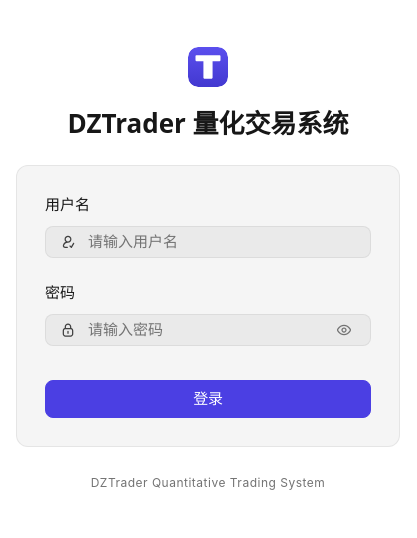
LoginView › 账户锁定（account_locked, 423）按绝对 locked_until 显示剩余分钟警告
This screenshot has width=417, height=538.
Type "bob" into the field with id "username" at coordinates (221, 242), box x1=86 y1=230 x2=356 y2=254
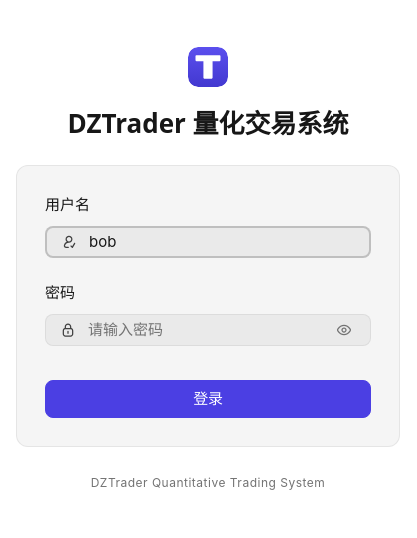
Type "pw" into the password field labelled "密码" at coordinates (204, 330), box x1=86 y1=318 x2=322 y2=342
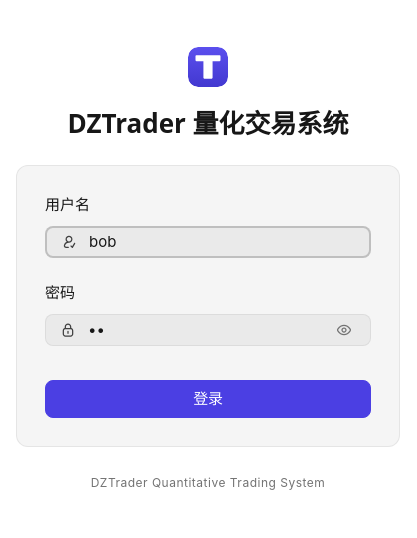
Submit the form, box x1=45 y1=194 x2=371 y2=418
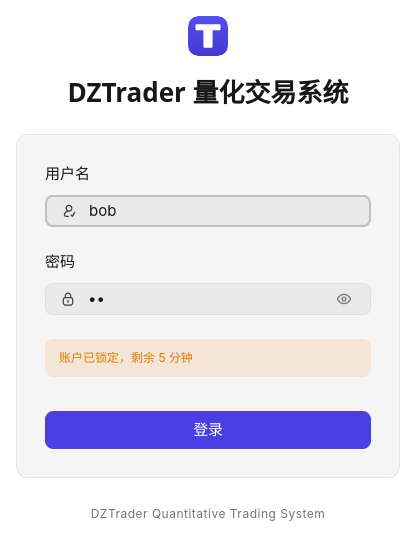
Check: the text "账户已锁定" is shown, box x1=59 y1=350 x2=193 y2=364
Check: the text "剩余" is shown, box x1=59 y1=350 x2=193 y2=364
Check: the text "分钟" is shown, box x1=59 y1=350 x2=193 y2=364
